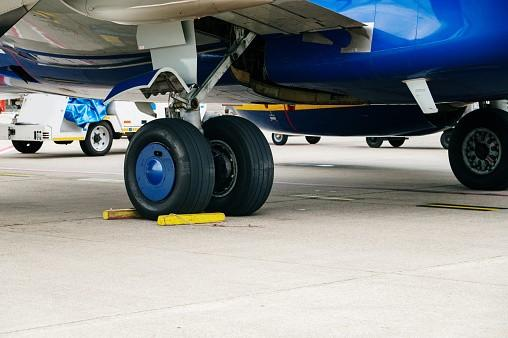boots: (157, 212, 229, 226), (100, 206, 165, 220)
wheels: (122, 116, 214, 218), (197, 115, 274, 214), (447, 109, 508, 189), (79, 121, 113, 156), (11, 139, 42, 152), (440, 129, 453, 149), (78, 139, 93, 154), (271, 133, 287, 144), (366, 137, 383, 147), (388, 137, 405, 146), (305, 135, 320, 143), (53, 139, 72, 144), (112, 131, 123, 138)
